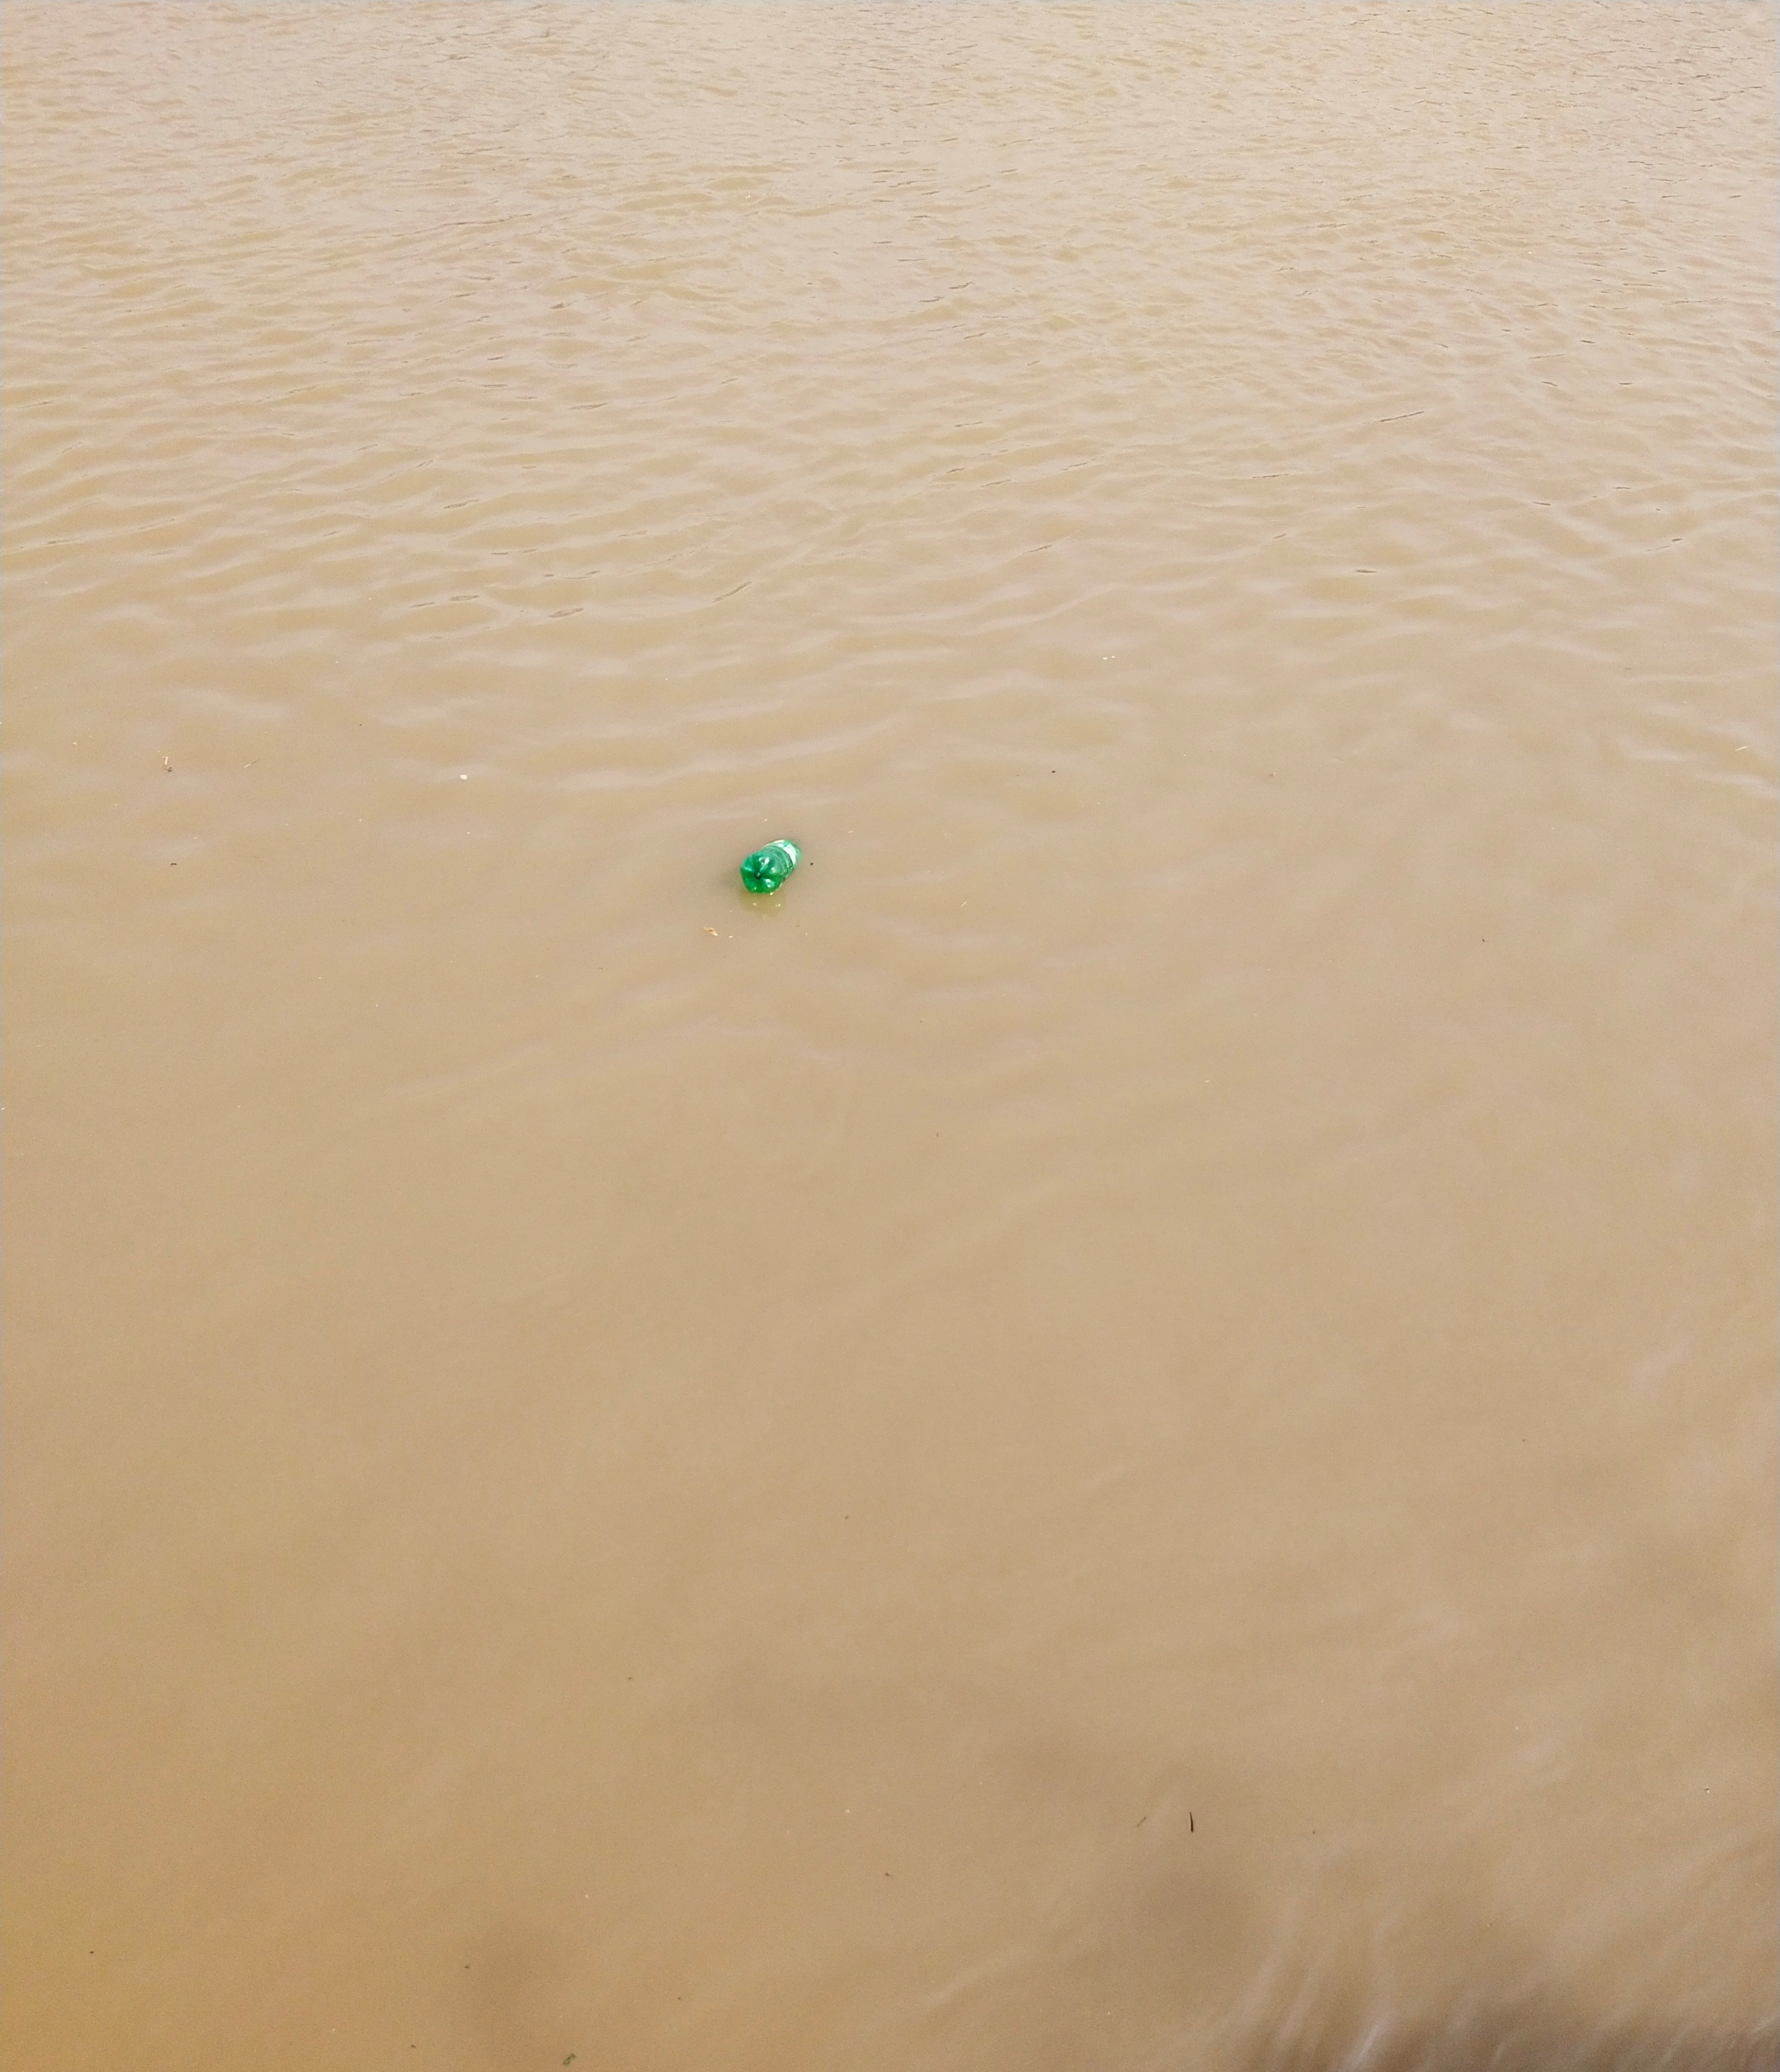Plastic Bottle: (738, 839, 798, 893)
